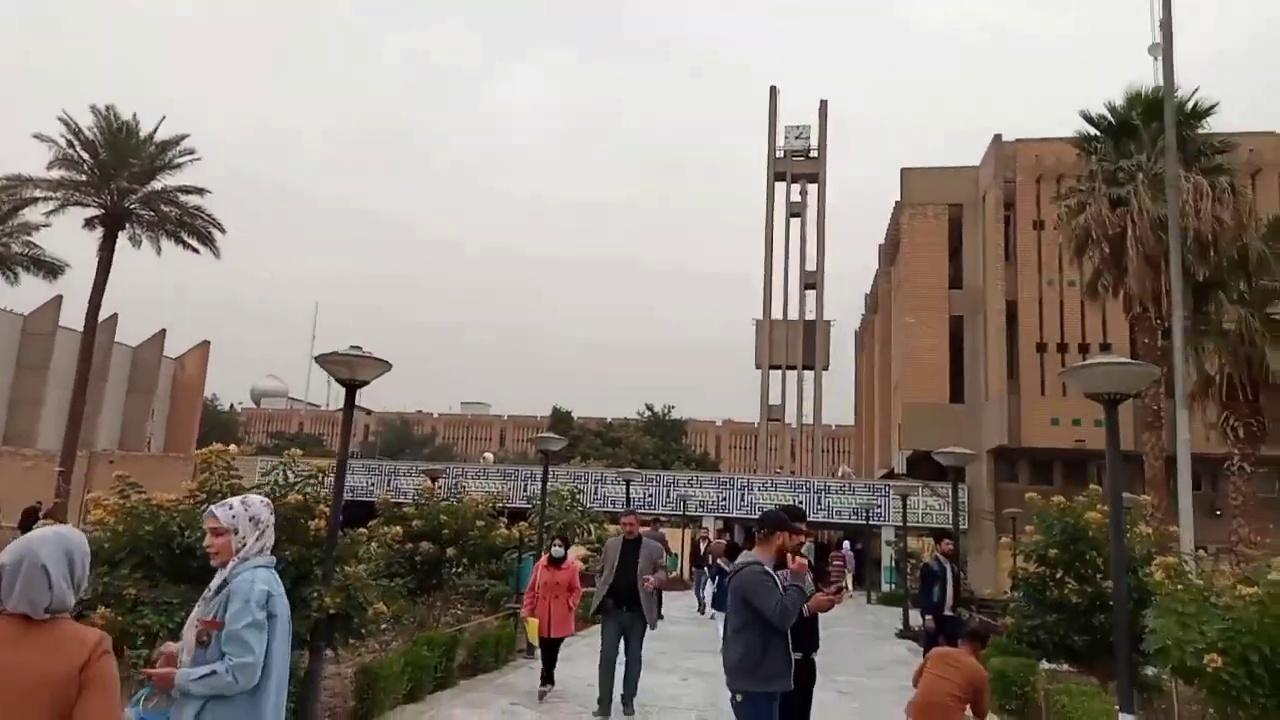person: (138, 493, 292, 719), (721, 508, 843, 719), (0, 522, 124, 719), (587, 508, 667, 718), (520, 531, 588, 702), (903, 617, 992, 719), (917, 528, 962, 659), (640, 516, 671, 621), (17, 500, 42, 535)
tree: (72, 442, 607, 718), (1048, 81, 1277, 572), (0, 101, 226, 523), (979, 480, 1182, 717), (541, 401, 721, 471), (0, 171, 70, 287), (525, 483, 602, 554), (629, 401, 690, 469), (374, 414, 436, 461), (195, 392, 244, 450), (545, 403, 580, 463)
